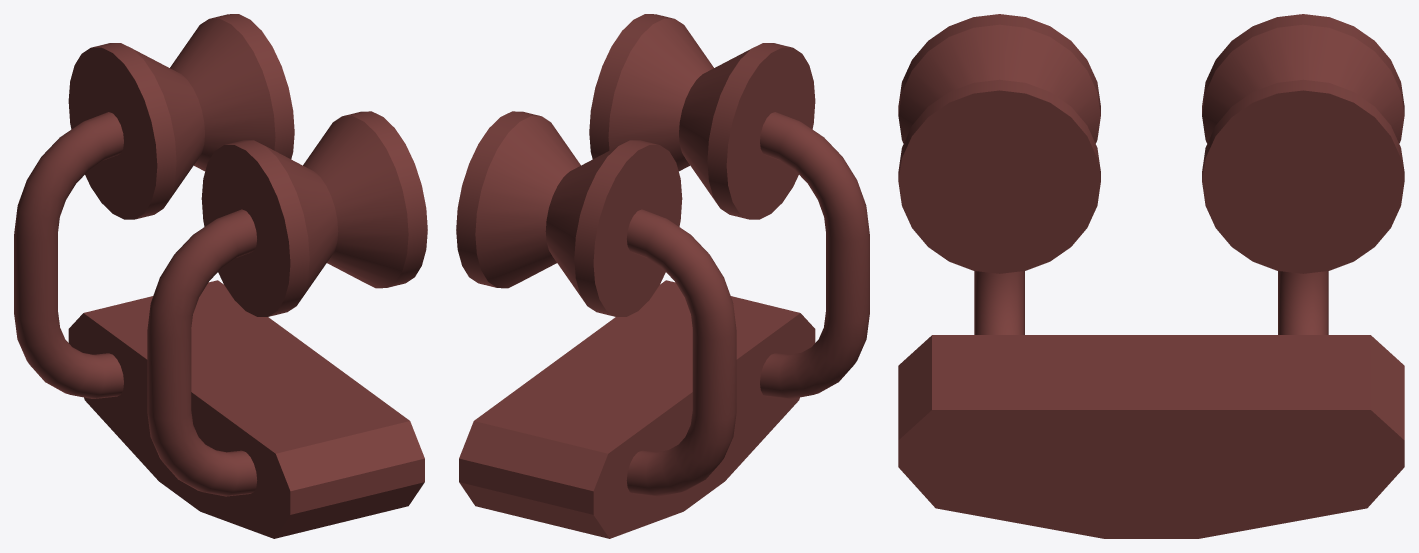
The model's file is Cart-Motor.fbx.
The picture shows the model from 3 angles, left to right: view 1: azimuth 30°, elevation 25°; view 2: azimuth 150°, elevation 25°; view 3: azimuth 270°, elevation 25°; orthographic projection. The views are drawn at different scales.
Parts seen in each view (by area): view 1: Cart-Motor; view 2: Cart-Motor; view 3: Cart-Motor.
Boxes of the visible parts, bbox=[...] form: Cart-Motor: bbox=[14, 14, 427, 538]; Cart-Motor: bbox=[456, 14, 869, 538]; Cart-Motor: bbox=[898, 14, 1404, 538].
Bounding box in the file's own units: 0.6075 × 0.9814 × 1.
Materials: 1 (1 with a texture image).
